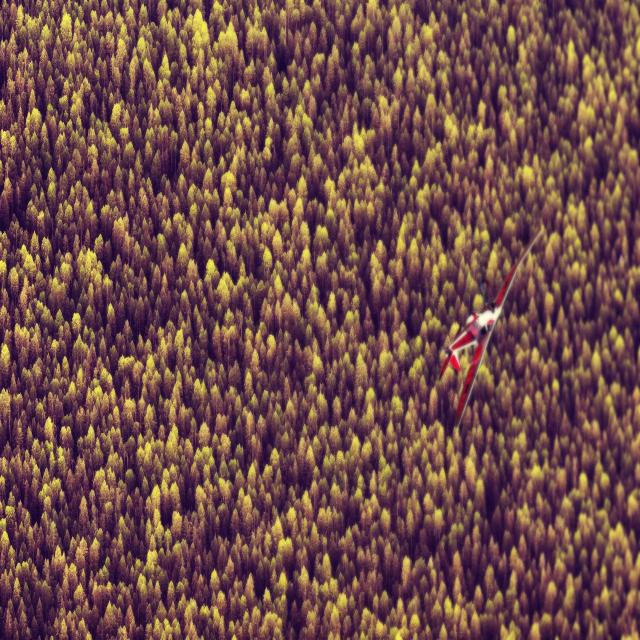airplane: (438, 225, 544, 430)
